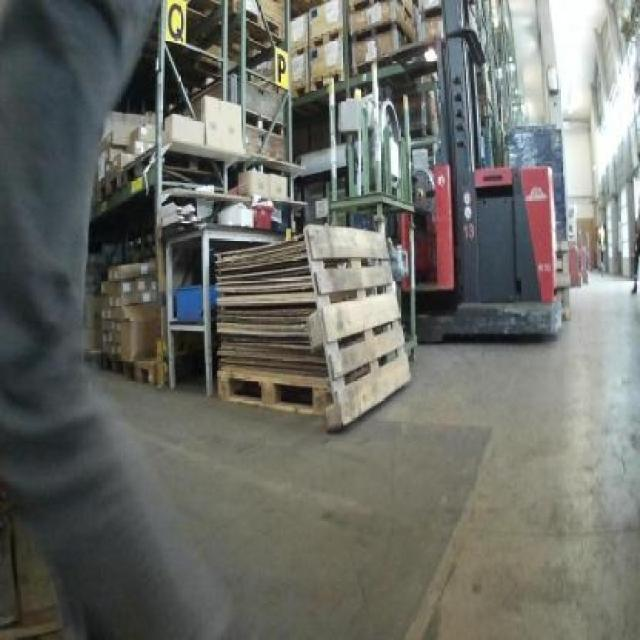pallets: (214, 223, 408, 426), (302, 223, 408, 426)
